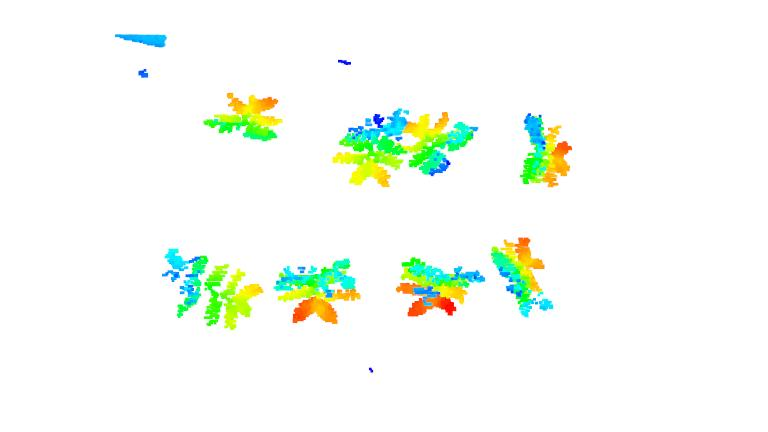chickpea: (160, 246, 265, 332), (332, 107, 411, 188), (395, 251, 482, 321), (489, 236, 558, 320), (277, 258, 358, 325), (399, 109, 479, 174), (517, 112, 573, 187), (200, 91, 282, 142)
